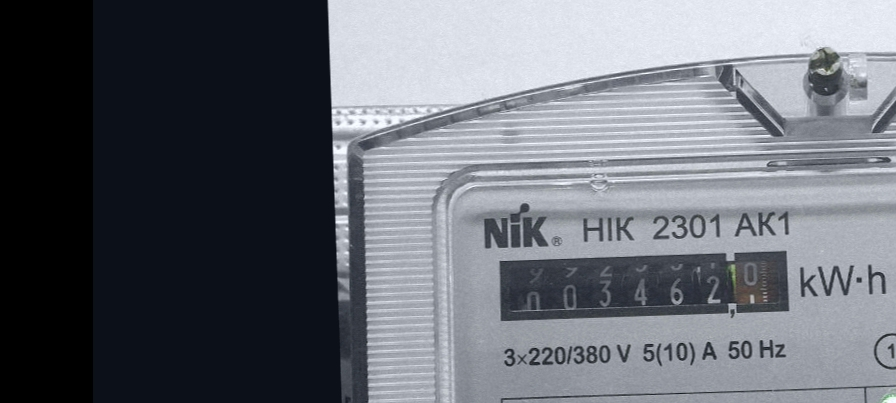0: (561, 280, 580, 309), (742, 258, 760, 287), (523, 287, 543, 311)
2: (705, 272, 724, 304)
3: (596, 276, 615, 309)
4: (633, 274, 651, 307)
6: (667, 273, 688, 308)
9: (525, 265, 546, 284)
screen: (487, 237, 801, 339)
